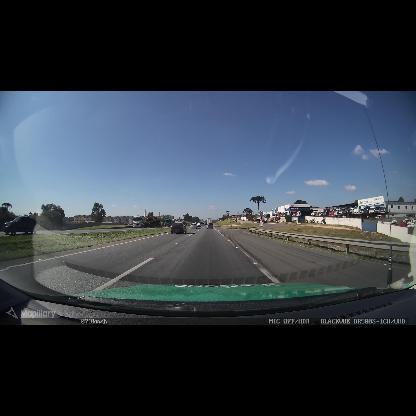O-MP: (229, 222, 232, 227)
R-19: (260, 220, 264, 224)
